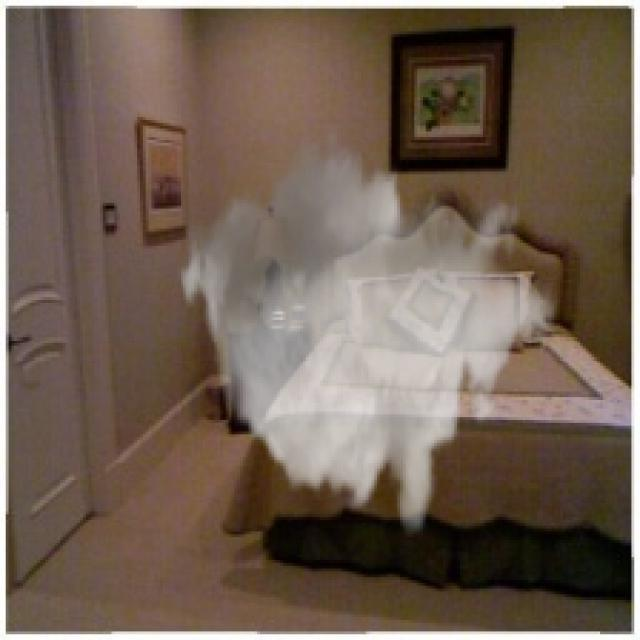Smoke: (174, 120, 557, 537)
